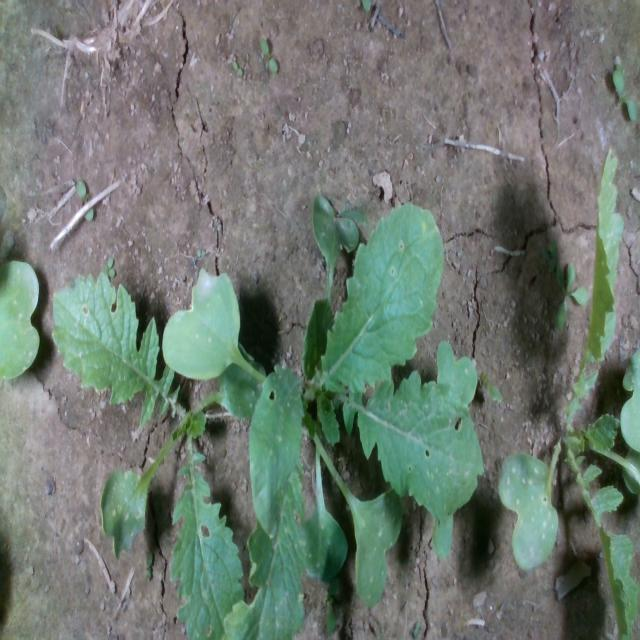weed: (612, 68, 637, 122), (258, 36, 278, 72), (230, 58, 242, 76)
